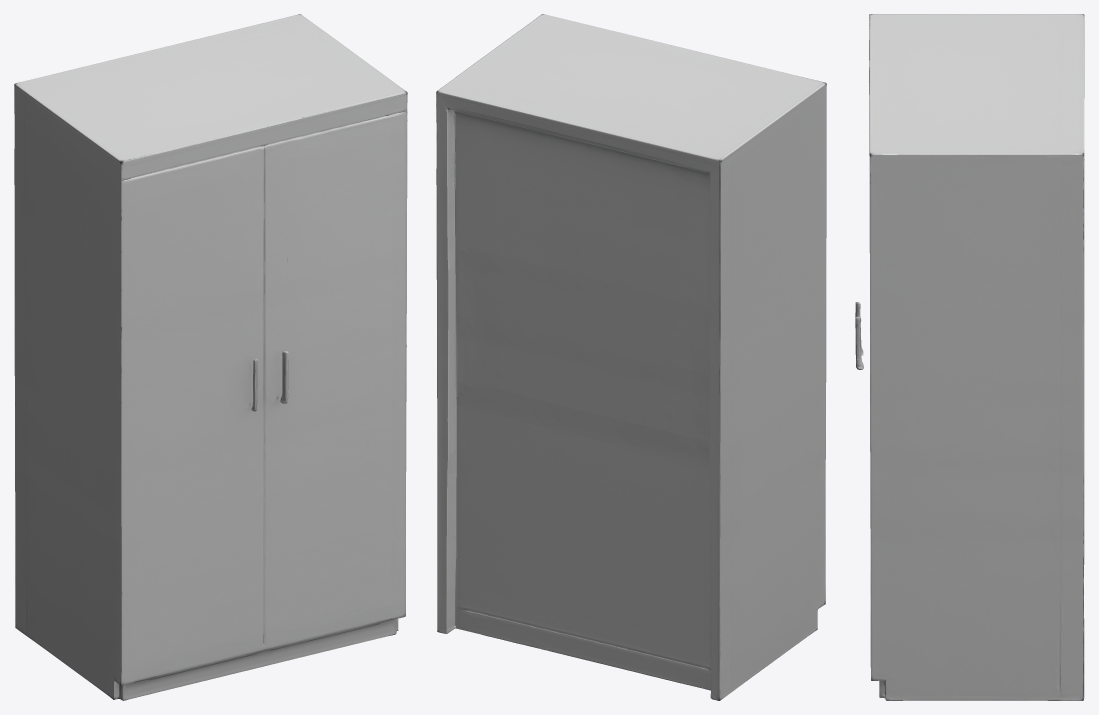
The model's file is df003_wardrobe_white_big_2door_sh.glb.
3 renders of one model, left to right at view 1: azimuth 30°, elevation 25°; view 2: azimuth 150°, elevation 25°; view 3: azimuth 270°, elevation 25°, orthographic.
Parts seen in each view (by area): view 1: world; view 2: world; view 3: world.
Part boxes in pixels (<box>): world: <box>14,14,407,700</box>; world: <box>436,14,826,700</box>; world: <box>855,14,1084,700</box>.
Bounding box in the file's own units: 0.5515 × 1 × 0.3798.
1 material, 1 textured.
